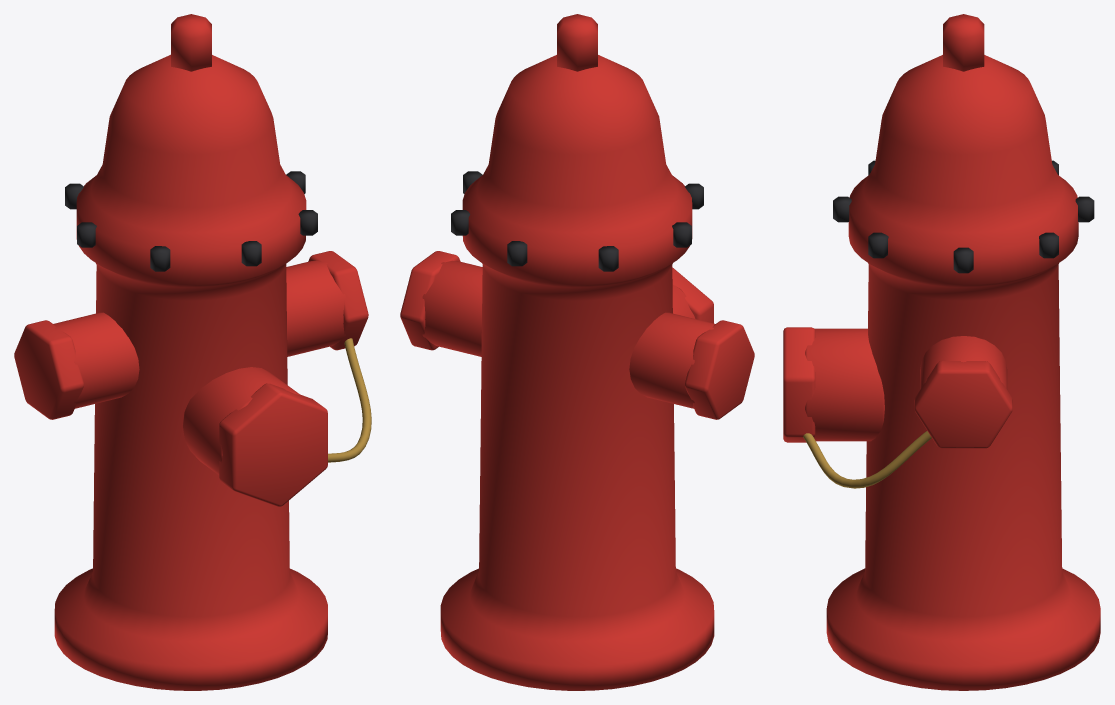
Rendered from hydrant.glb.
3 renders of one model, left to right at view 1: azimuth 30°, elevation 25°; view 2: azimuth 150°, elevation 25°; view 3: azimuth 270°, elevation 25°, orthographic.
Parts seen in each view (by area): view 1: hydrant; view 2: hydrant; view 3: hydrant.
Boxes of the visible parts, <box> form: hydrant: <box>14,14,371,690</box>; hydrant: <box>400,14,754,690</box>; hydrant: <box>783,14,1100,690</box>.
Bounding box in the file's own units: 0.39 × 0.742 × 0.3475.
